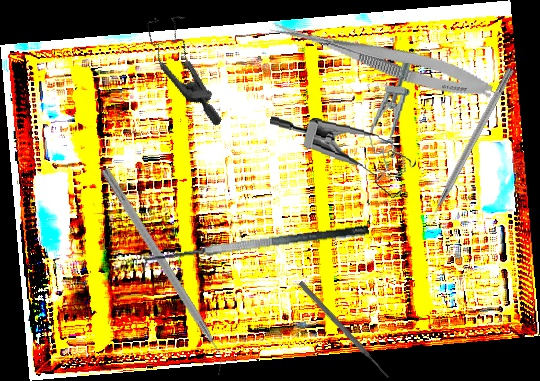Chopper: (90, 167, 233, 378)
Hook Surgical: (420, 66, 516, 232)
Micro Scissor: (265, 14, 497, 106)
Pusher: (296, 279, 392, 381)
Spatula Surgical: (140, 223, 371, 278)
Speculum: (119, 2, 257, 128), (265, 114, 419, 200), (364, 59, 420, 178)
